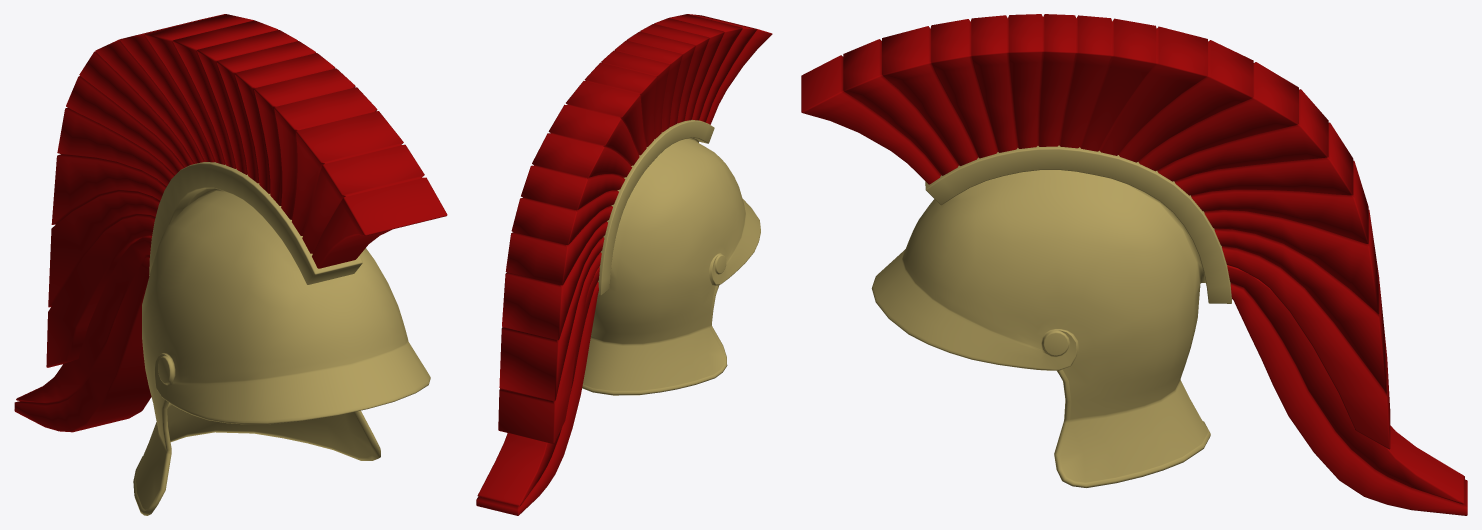
The model's file is trojan helmet.fbx.
3 renders of one model, left to right at view 1: azimuth 30°, elevation 25°; view 2: azimuth 150°, elevation 25°; view 3: azimuth 270°, elevation 25°, orthographic. The views are drawn at different scales.
Parts seen in each view (by area): view 1: Hair_Low, Helmet_Low; view 2: Hair_Low, Helmet_Low; view 3: Hair_Low, Helmet_Low.
Part boxes in pixels (<box>): Hair_Low: <box>14,14,447,432</box>; Helmet_Low: <box>133,162,430,515</box>; Hair_Low: <box>476,14,772,515</box>; Helmet_Low: <box>582,120,760,395</box>; Hair_Low: <box>801,14,1467,515</box>; Helmet_Low: <box>871,145,1231,487</box>.
Bounding box in the file's own units: 976 × 2040 × 2619.
